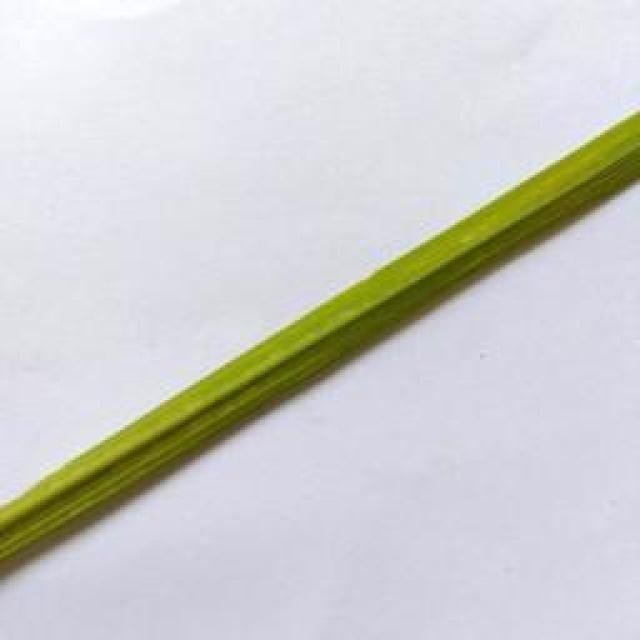Healthy-Plant: (0, 117, 640, 578)
